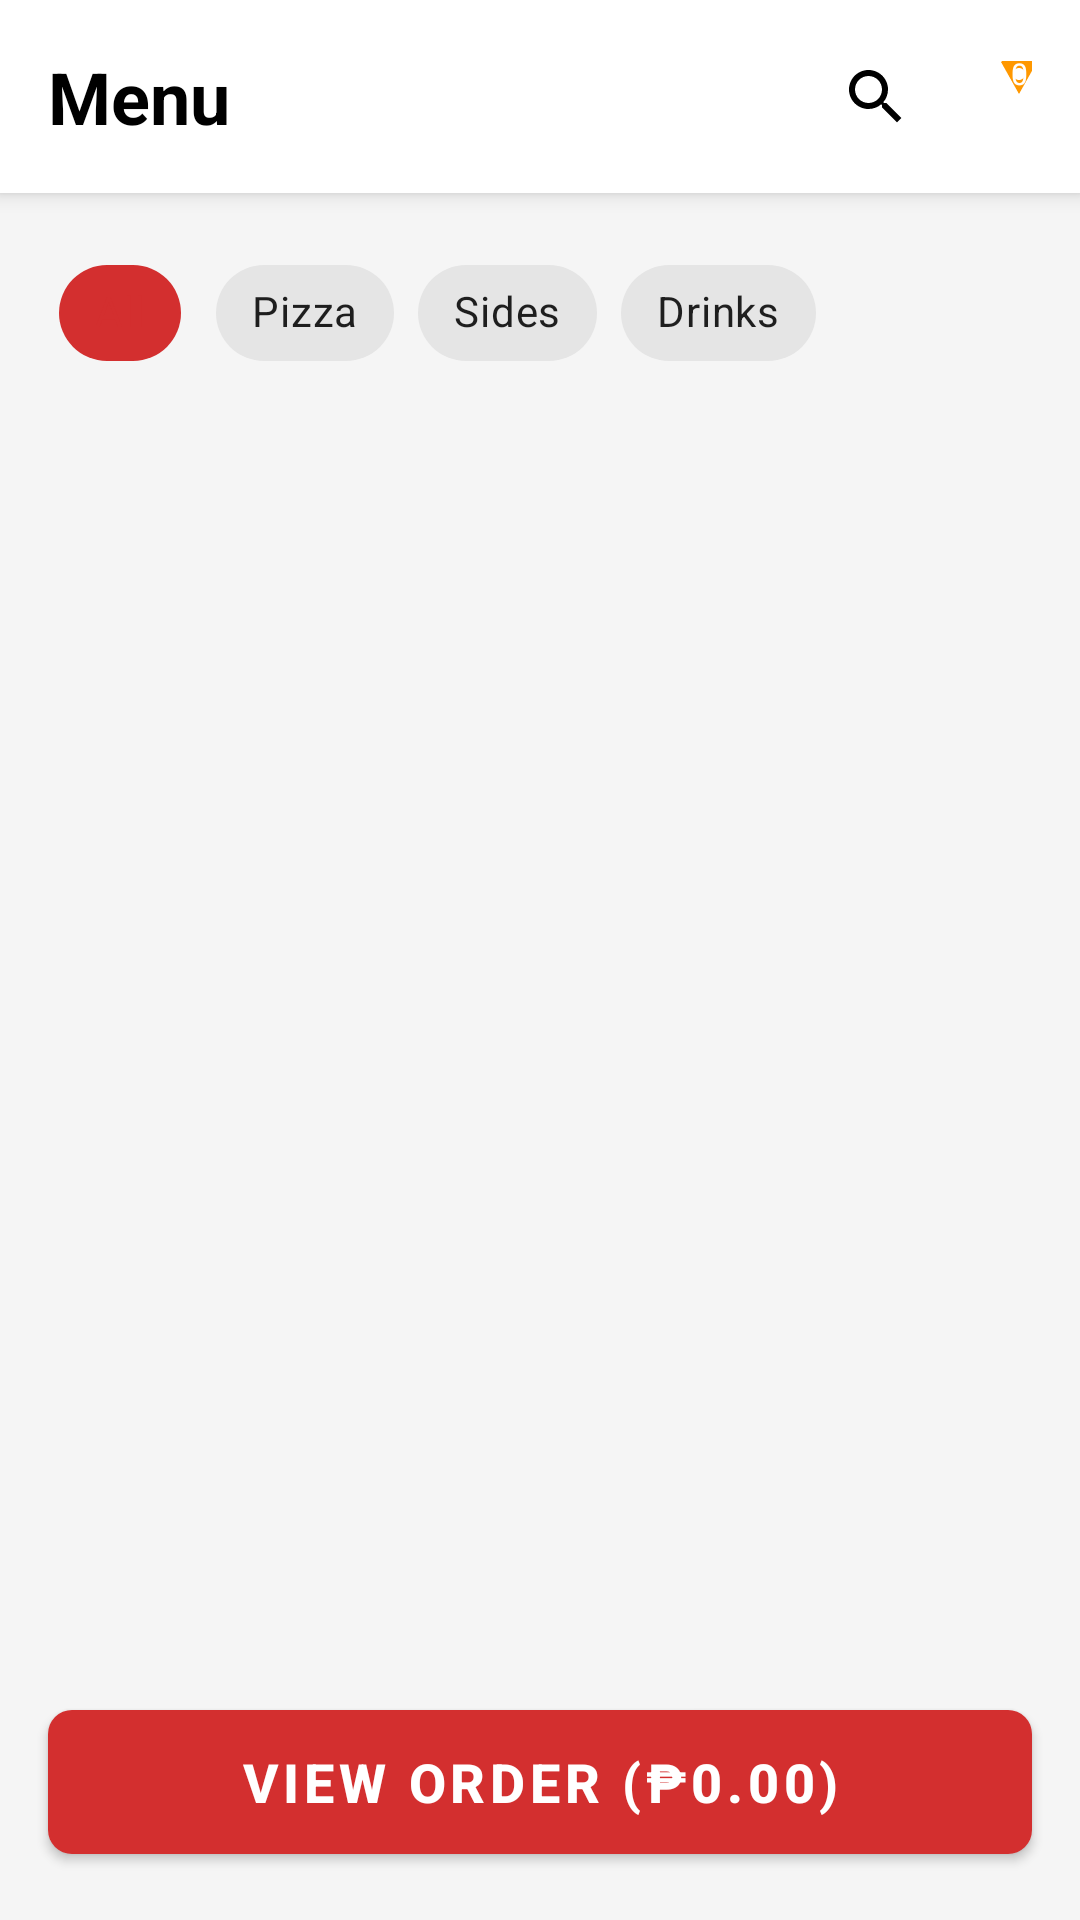

Icons on this 1080 x 1920 Android screen, each with the point to tap as point (x, y):
search: point (875, 96)
